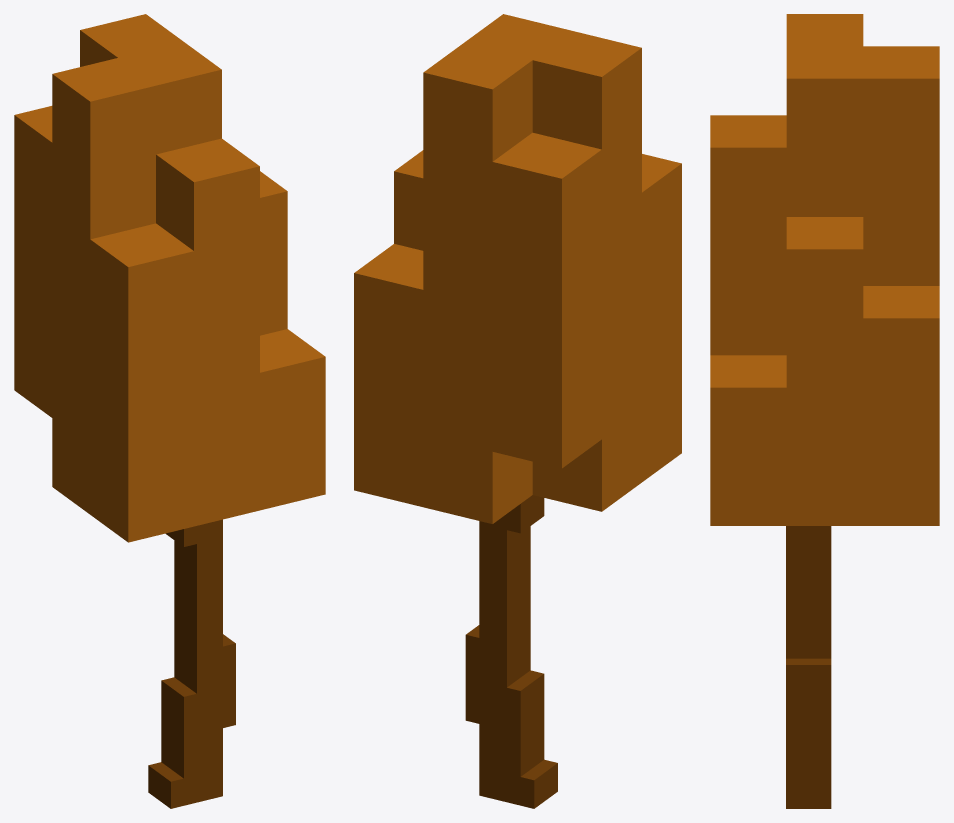
File: Blockytree_01_orange.glb
3 renders of one model, left to right at view 1: azimuth 30°, elevation 25°; view 2: azimuth 150°, elevation 25°; view 3: azimuth 270°, elevation 25°, orthographic. The views are drawn at different scales.
Visible parts, largest first — view 1: Blockytree_01_orange_Wood_0; view 2: Blockytree_01_orange_Wood_0; view 3: Blockytree_01_orange_Wood_0.
Boxes of the visible parts, x1,y1,x2,y2 form: Blockytree_01_orange_Wood_0: [14, 14, 325, 808]; Blockytree_01_orange_Wood_0: [354, 14, 681, 808]; Blockytree_01_orange_Wood_0: [710, 14, 939, 808].
Size of the model in its own units: 2.63 by 9.26 by 2.63.
